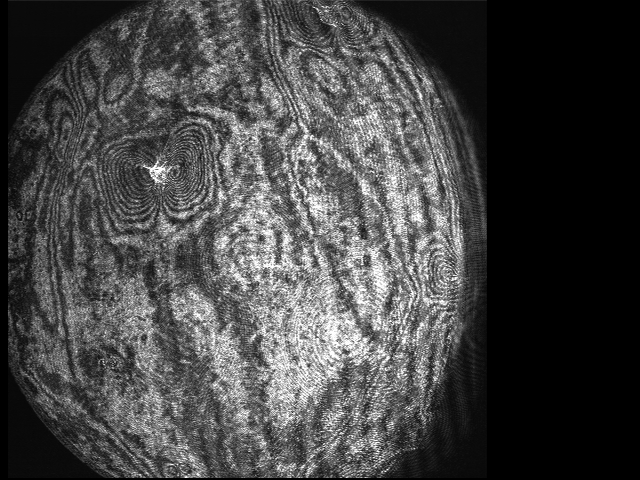plume: (101, 117, 214, 234)
